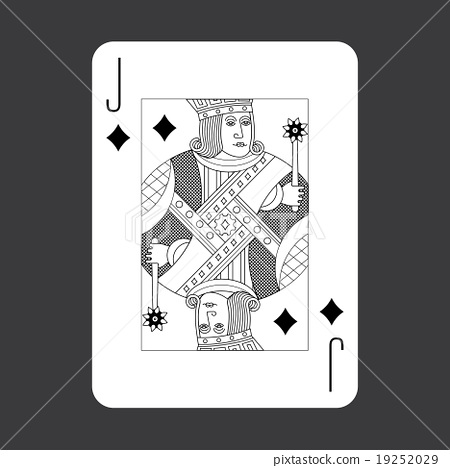jack of diamonds: (92, 39, 358, 405)
